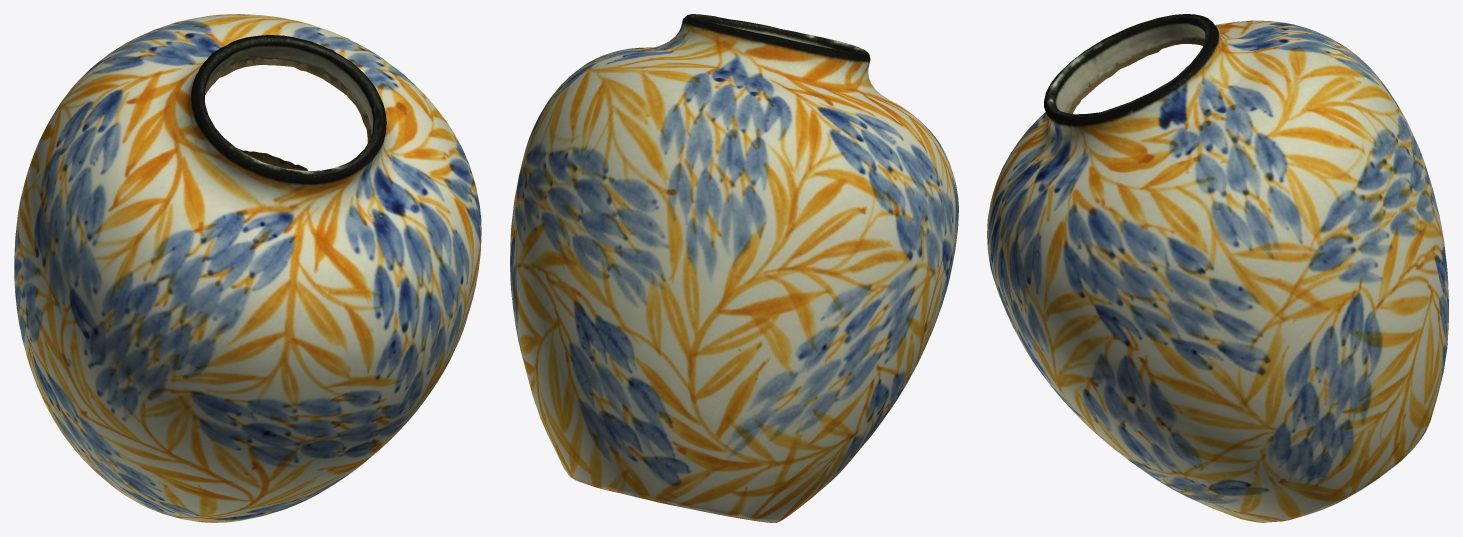
3 renders of one model, left to right at view 1: azimuth 30°, elevation 25°; view 2: azimuth 150°, elevation 25°; view 3: azimuth 270°, elevation 25°, orthographic. The views are drawn at different scales.
Size of the model in its own units: 0.1449 by 0.1695 by 0.1513.
1 material, 1 textured.
